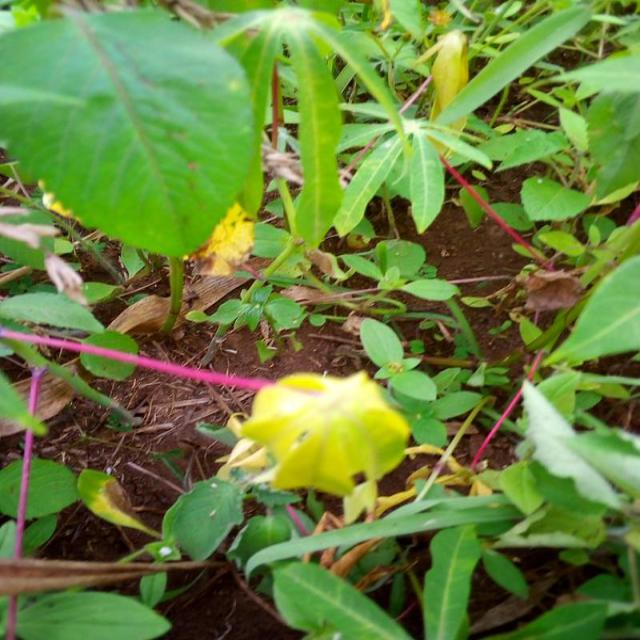cassava leaf: (0, 7, 258, 260), (236, 368, 411, 498)
